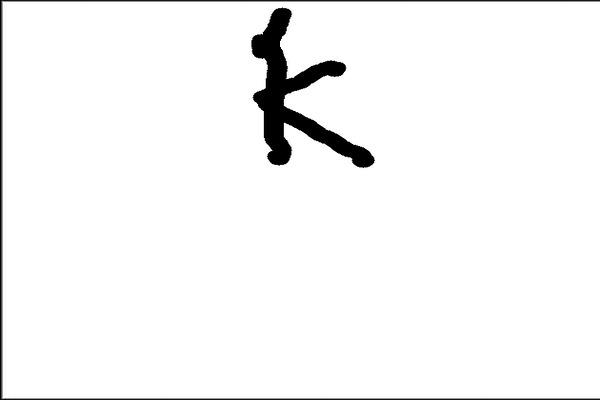K: (244, 4, 382, 176)
